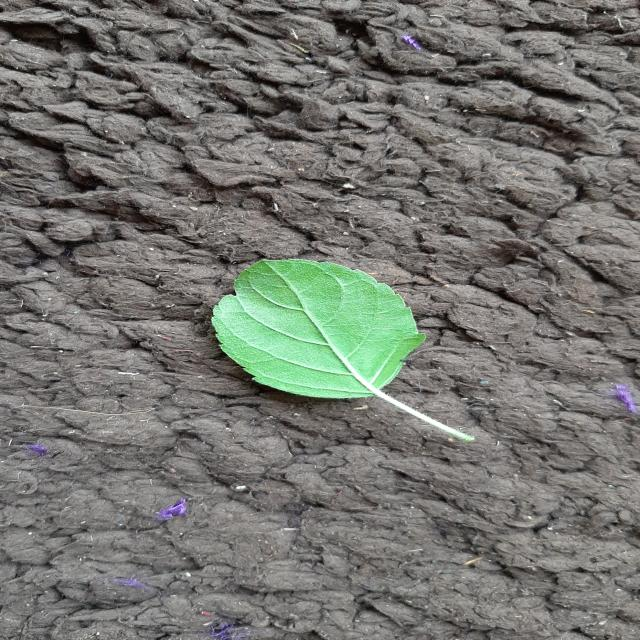tulsi: (211, 259, 474, 441)
